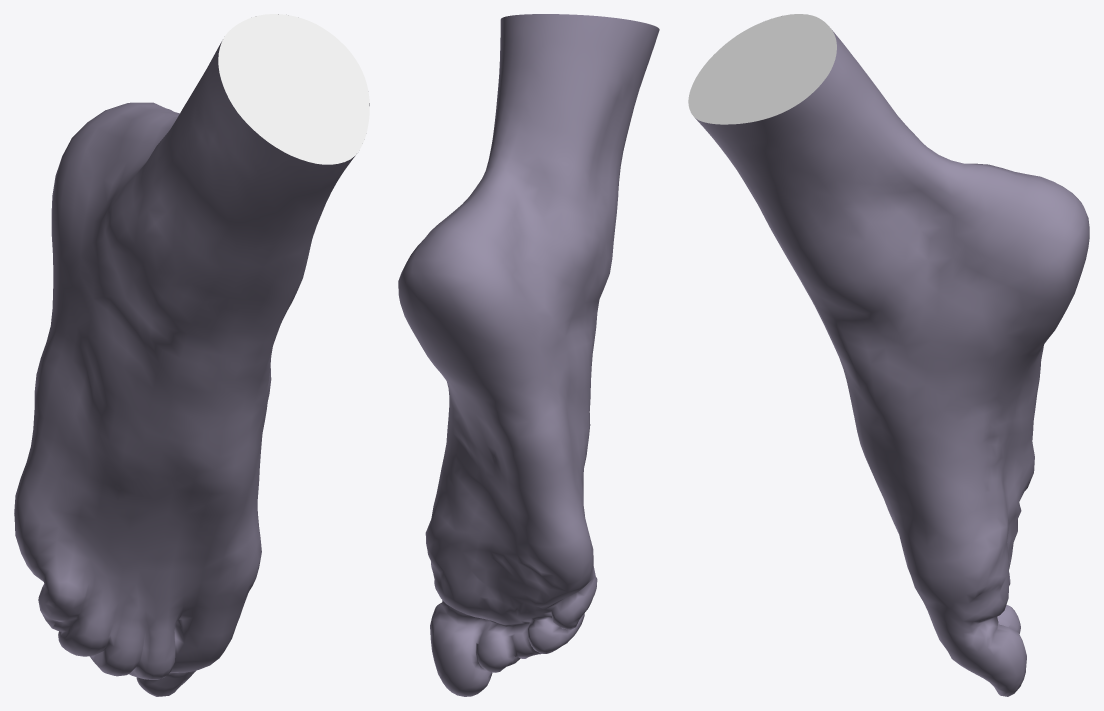
Rendered from 脚_20260324200906_opt.glb.
3 views of the same model, side by side, from view 1: azimuth 30°, elevation 25°; view 2: azimuth 150°, elevation 25°; view 3: azimuth 270°, elevation 25° (orthographic). The views are drawn at different scales.
Parts seen in each view (by area): view 1: LegsArmands_5_UV_LOW, LegsArmands_5_UV_LOW001; view 2: LegsArmands_5_UV_LOW; view 3: LegsArmands_5_UV_LOW, LegsArmands_5_UV_LOW001.
Part boxes in pixels (box(x1,y1,x2,y2)): LegsArmands_5_UV_LOW: box(14, 14, 369, 696); LegsArmands_5_UV_LOW001: box(218, 14, 369, 164); LegsArmands_5_UV_LOW: box(398, 14, 659, 696); LegsArmands_5_UV_LOW: box(695, 30, 1089, 696); LegsArmands_5_UV_LOW001: box(688, 14, 836, 124).
Size of the model in its own units: 0.1038 by 0.3405 by 0.1876.
